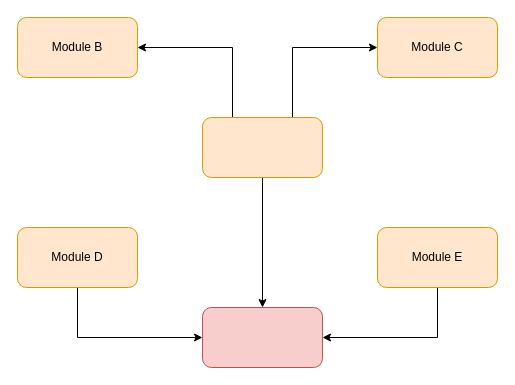
Some shapes in this 515 by 385 pixel diagram are drawn without their labels. The shapes that lost their labels are listed below. From the top down, each one's centre as x and y in pixels, then its label:
point 262,147: Module A
point 262,337: Core/ Mediator
